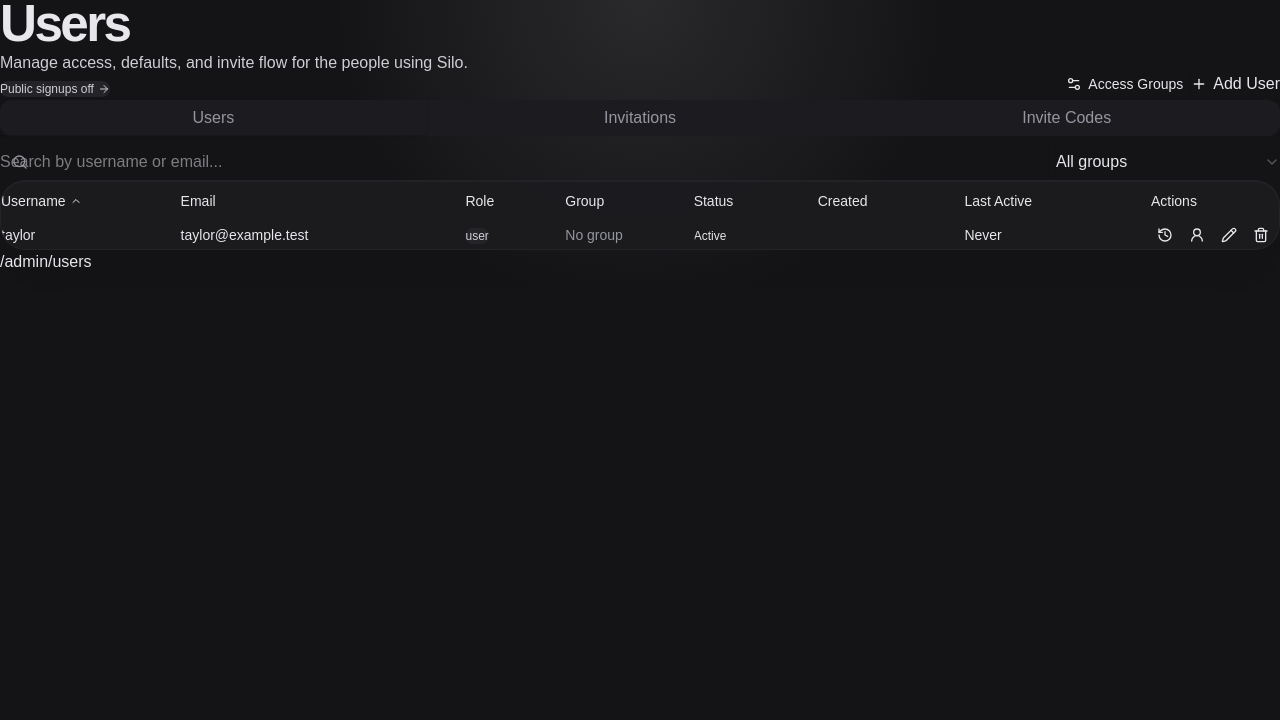
it: AdminUsers row actions › preserves the current session when starting View as user fails
The image size is (1280, 720).
Click the button named "View as user: taylor": [1197, 235] box 1183,221 -> 1211,249
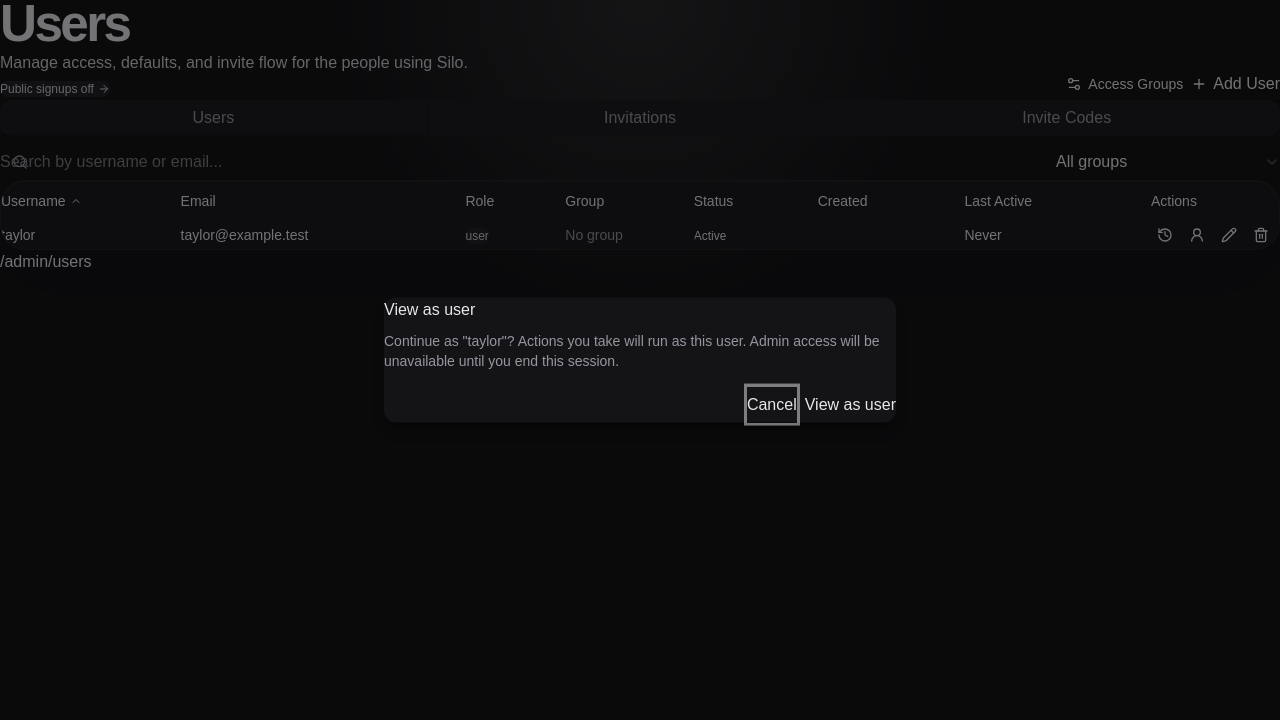
Click the button "View as user": [850, 404] box 805,386 -> 896,422
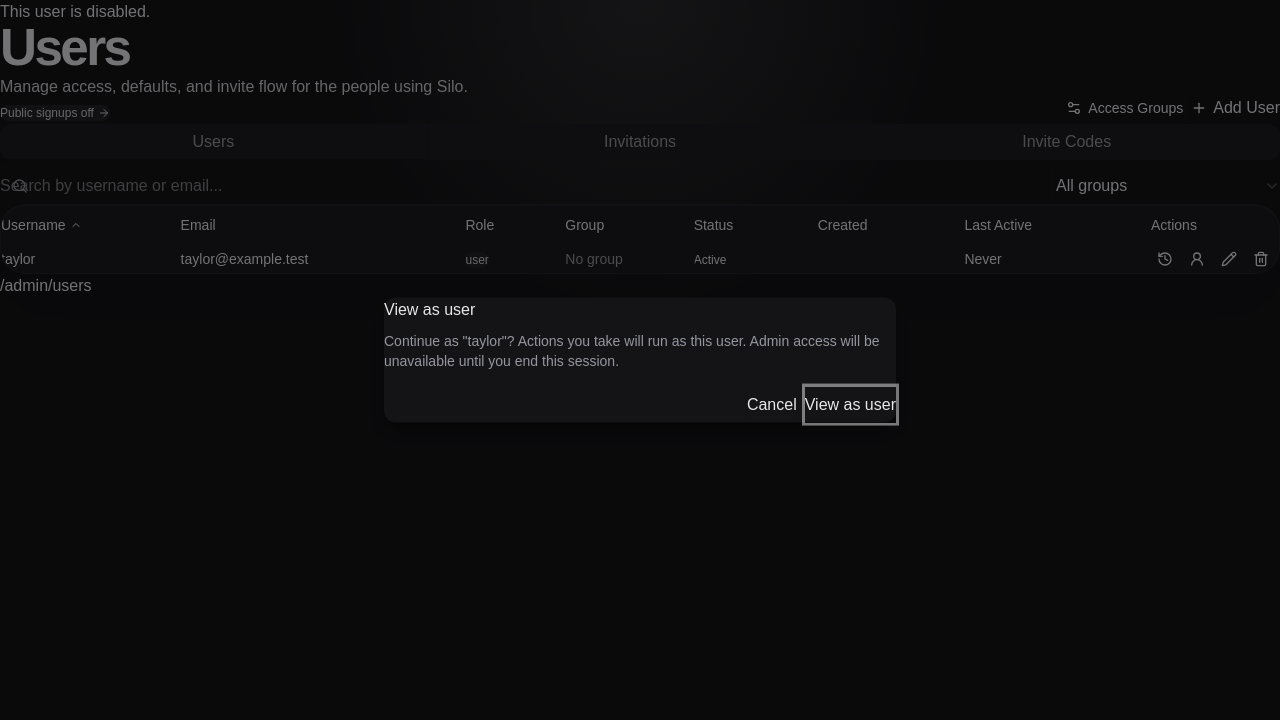
Expected: the text with test id "location" reads "/admin/users", 0,277 -> 92,294
Expected: the text "This user is disabled." is shown, 0,3 -> 150,20
